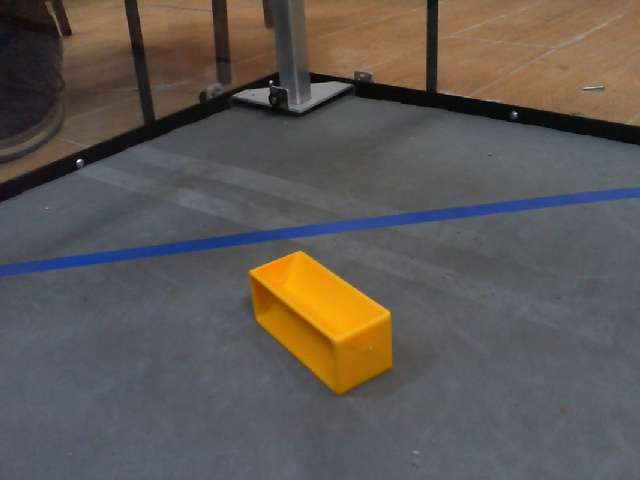YellowSample: (244, 246, 403, 398)
